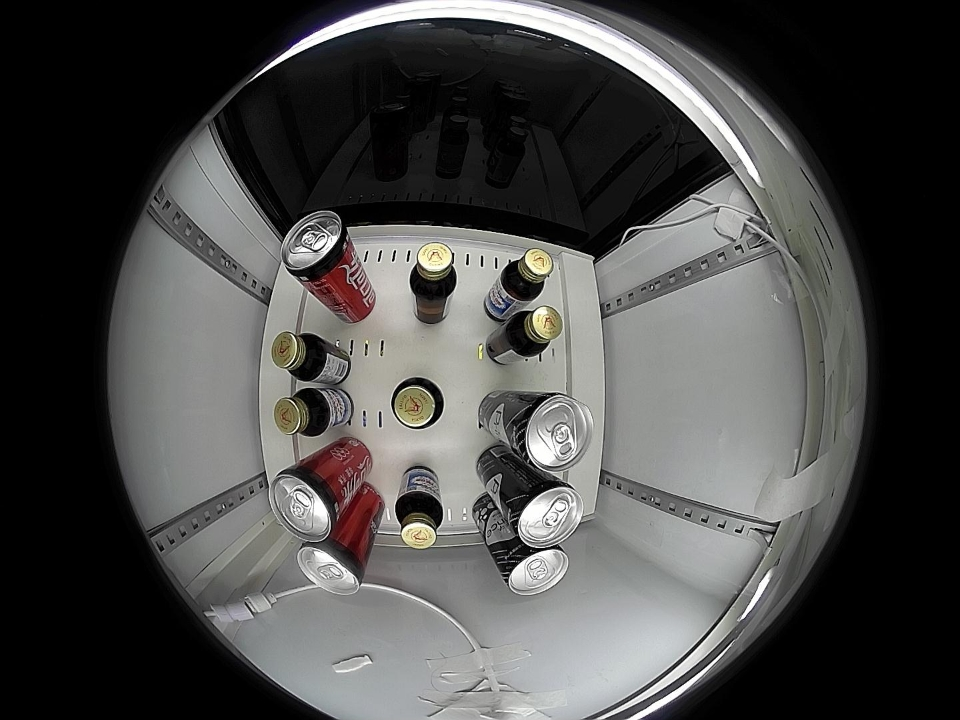libaojian: (504, 306, 563, 360), (500, 248, 554, 303), (391, 376, 446, 430), (396, 489, 444, 549), (275, 387, 333, 436), (273, 332, 327, 381), (410, 242, 458, 296)
lingdukele: (268, 465, 348, 541), (280, 211, 354, 284), (297, 536, 367, 596)
qingdaowangzi-1: (508, 392, 594, 475), (504, 477, 584, 548), (498, 541, 569, 595)
